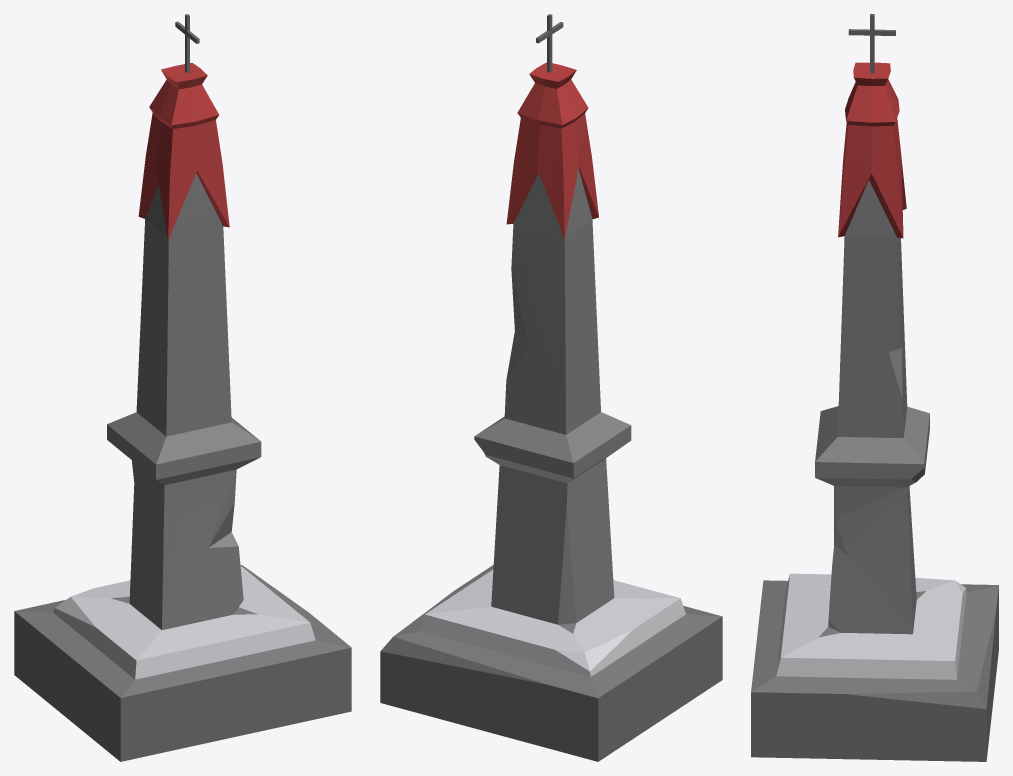
Rendered from ea_bld_obelisk_2d_pre_lev1.glb.
3 renders of one model, left to right at view 1: azimuth 30°, elevation 25°; view 2: azimuth 150°, elevation 25°; view 3: azimuth 270°, elevation 25°, orthographic. The views are drawn at different scales.
Parts seen in each view (by area): view 1: ea_bld_obelisk_2d_pre_lev1; view 2: ea_bld_obelisk_2d_pre_lev1; view 3: ea_bld_obelisk_2d_pre_lev1.
Boxes of the visible parts, box(x1,y1,x2,y2) form: ea_bld_obelisk_2d_pre_lev1: box(14, 14, 351, 761); ea_bld_obelisk_2d_pre_lev1: box(380, 14, 722, 761); ea_bld_obelisk_2d_pre_lev1: box(751, 14, 998, 761).
Bounding box in the file's own units: 5.63 × 15.57 × 5.07.
1 material, 1 textured.
